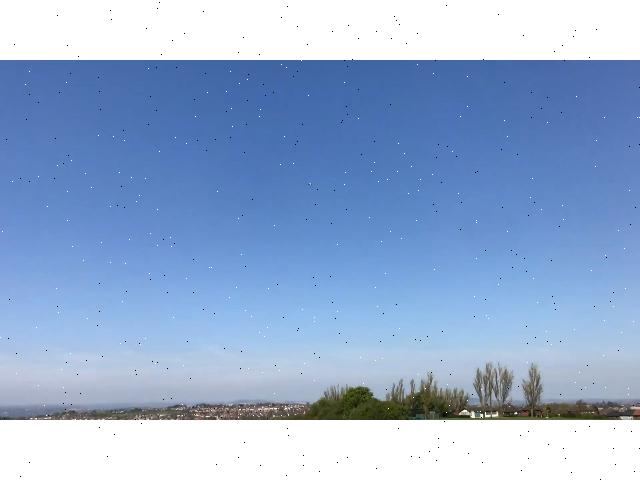Anti-Drone: (300, 179, 324, 191)
